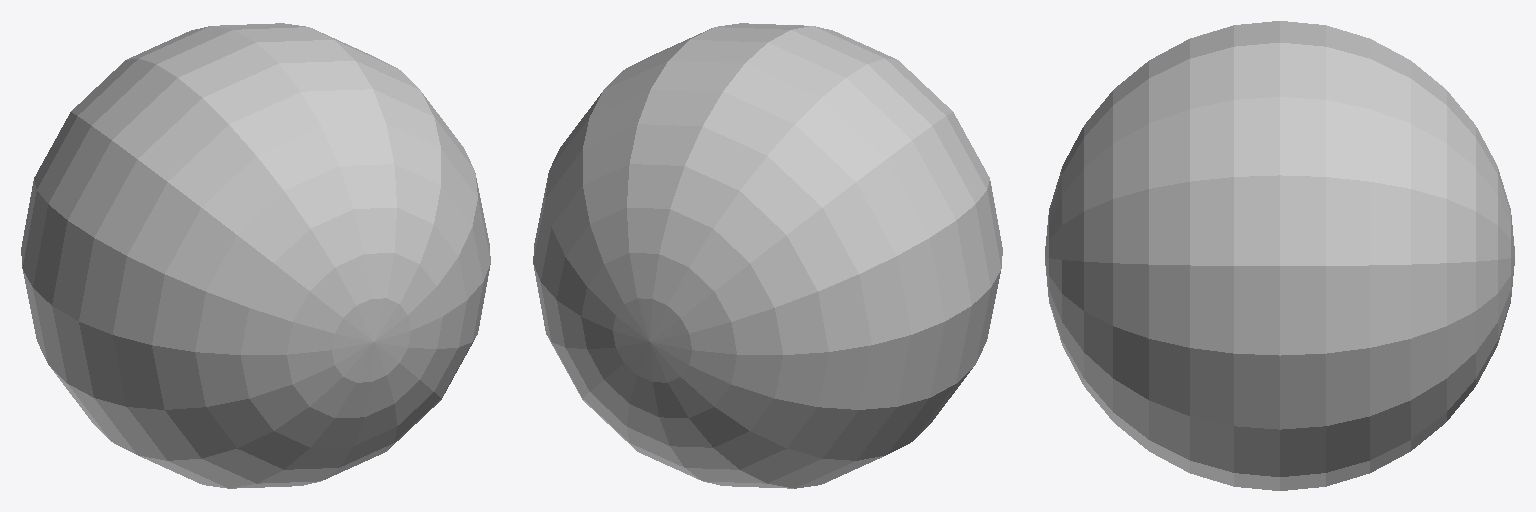
File: Balon.obj
3 views of the same model, side by side, from view 1: azimuth 30°, elevation 25°; view 2: azimuth 150°, elevation 25°; view 3: azimuth 270°, elevation 25° (orthographic).
Visible parts, largest first — view 1: Sphere.000_Sphere.003; view 2: Sphere.000_Sphere.003; view 3: Sphere.000_Sphere.003.
Part boxes in pixels (x1,y1,x2,y2): Sphere.000_Sphere.003: (21, 23, 490, 488); Sphere.000_Sphere.003: (533, 23, 1002, 488); Sphere.000_Sphere.003: (1045, 21, 1514, 490).
Size of the model in its own units: 0.2273 by 0.2273 by 0.2273.